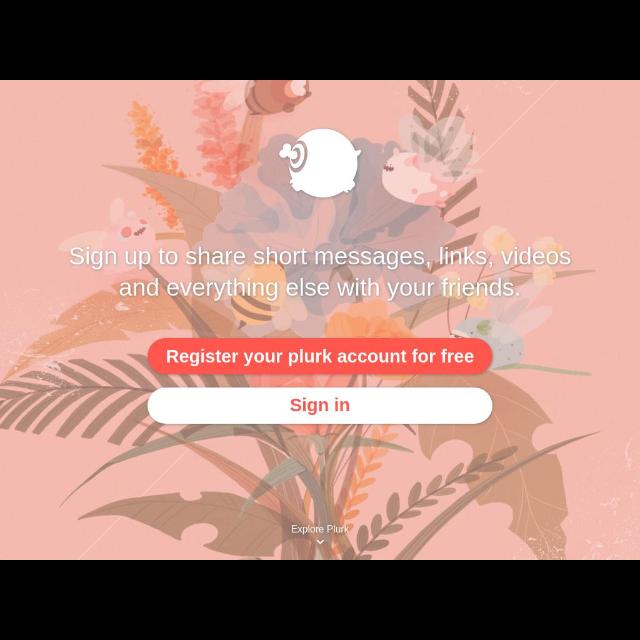backgroundimage: (1, 80, 638, 556)
icon: (317, 538, 327, 546)
image: (278, 130, 368, 198)
text: (69, 246, 573, 302), (168, 346, 478, 362), (288, 396, 354, 412), (292, 525, 351, 533)
textbutton: (148, 387, 494, 425), (146, 338, 492, 372)
